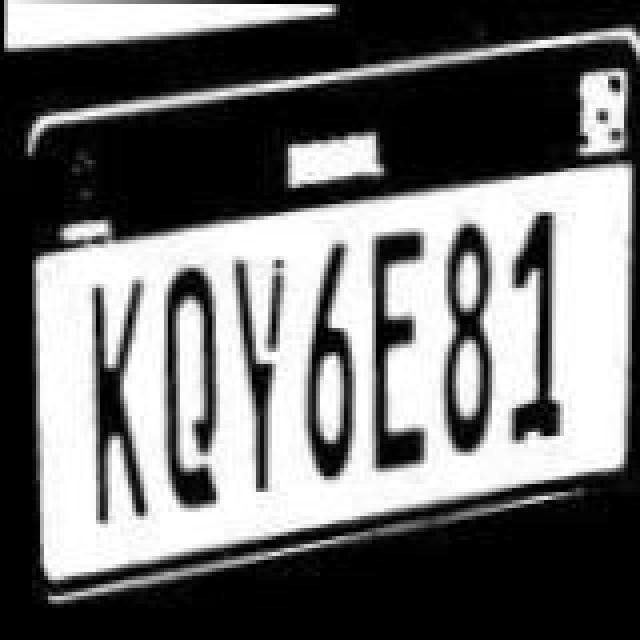1: (498, 204, 570, 464)
6: (304, 234, 364, 486)
8: (424, 216, 492, 464)
E: (358, 224, 430, 476)
K: (76, 254, 148, 542)
Q: (160, 256, 224, 512)
Y: (232, 248, 300, 504)
